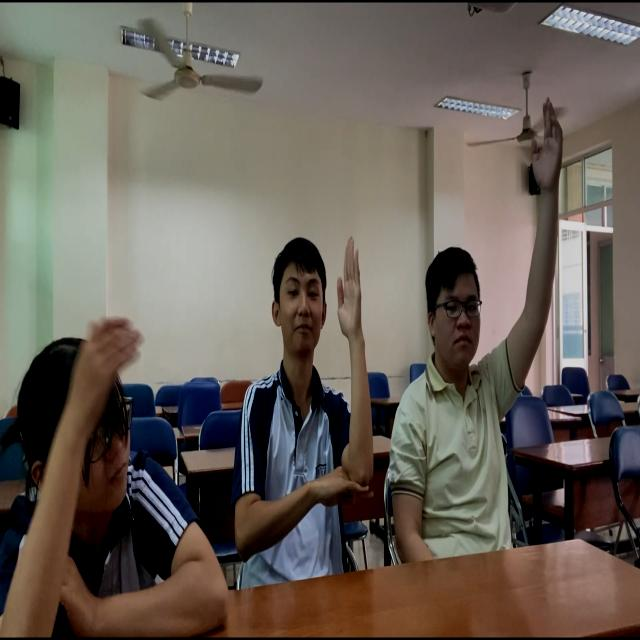raise_hand: (389, 99, 570, 546), (1, 306, 228, 634), (228, 232, 379, 595)
